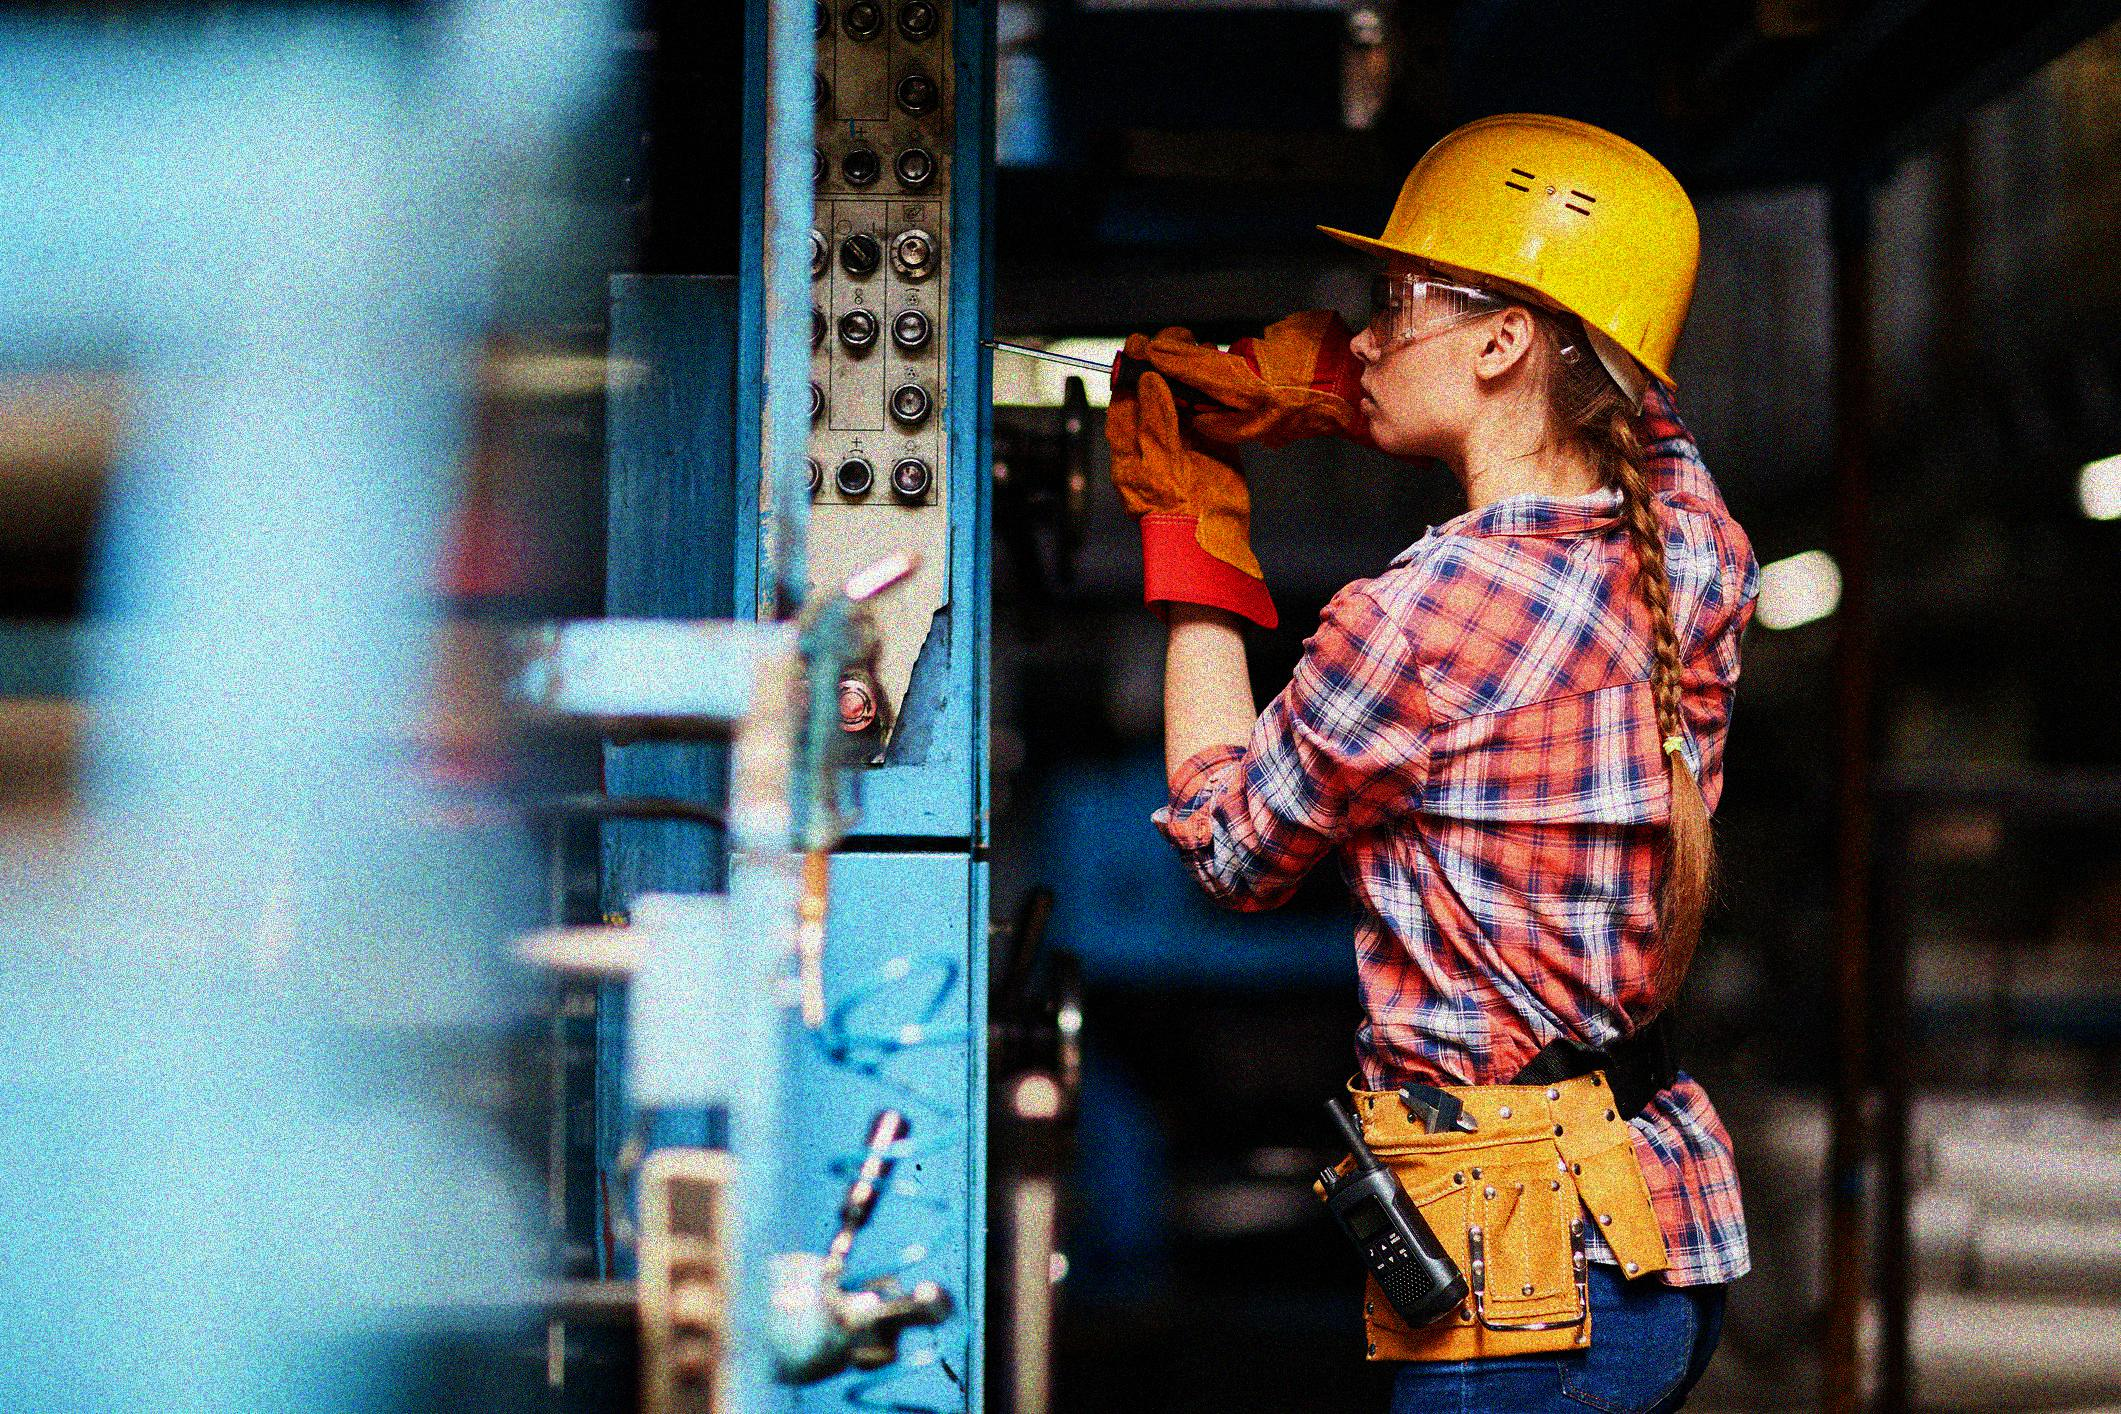helmet: (1308, 107, 1701, 461)
